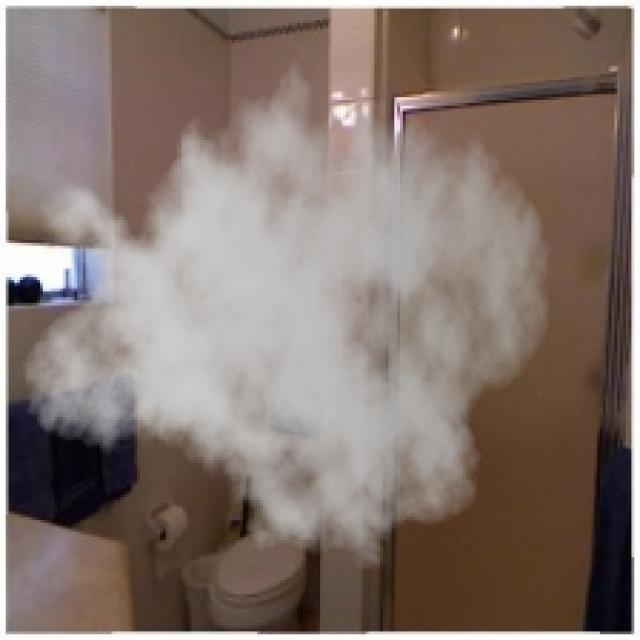Smoke: (19, 37, 552, 583)
